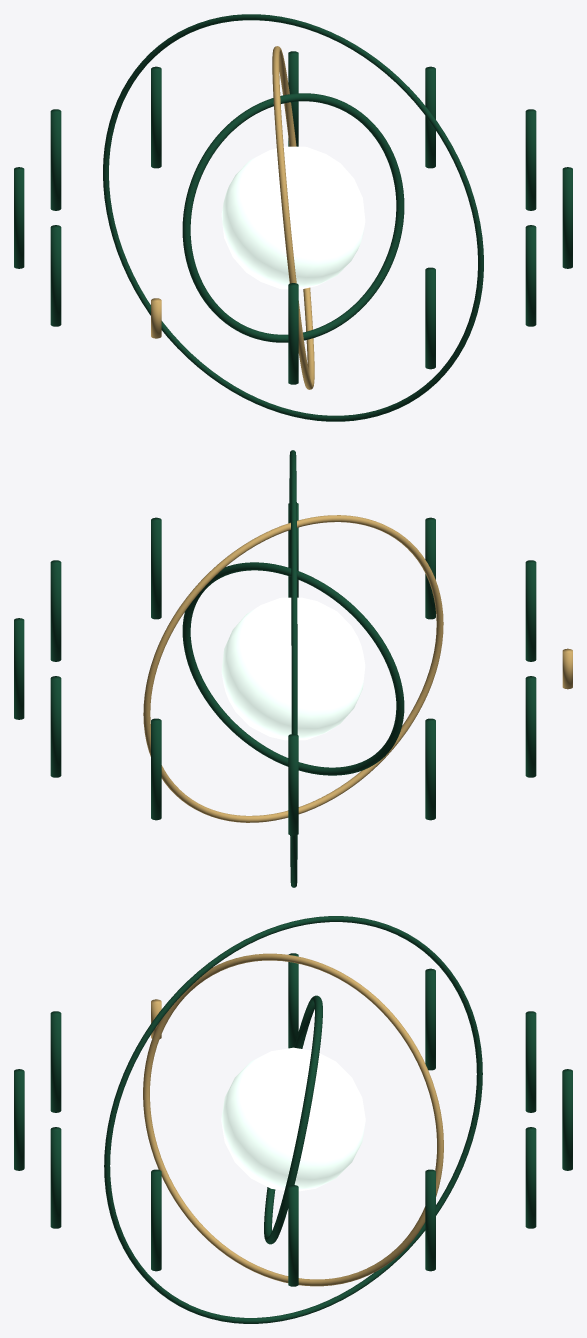
File: hero.glb
3 renders of one model, top to bottom at view 1: azimuth 30°, elevation 25°; view 2: azimuth 150°, elevation 25°; view 3: azimuth 270°, elevation 25°, orthographic.
Visible parts, largest first — view 1: core, tier2, tier0, tier1, pillar0, pillar4, pillar6, pillar10, pillar8, pillar3, pillar9, pillar5 (+3 smaller); view 2: core, tier1, tier0, tier2, pillar0, pillar2, pillar6, pillar8, pillar4, pillar3, pillar5, pillar11 (+2 smaller); view 3: core, tier2, tier1, tier0, pillar2, pillar4, pillar8, pillar10, pillar0, pillar1, pillar11, pillar3 (+3 smaller).
Part boxes in pixels (x1,y1,x2,y2): core: (221,146,365,289); tier2: (103,14,483,421); tier0: (182,93,404,342); tier1: (272,46,314,389); pillar0: (525,109,536,210); pillar4: (50,109,61,210); pillar6: (50,225,61,326); pillar10: (525,225,536,326); pillar8: (288,283,298,384); pillar3: (151,66,161,168); pillar9: (425,267,435,369); pillar5: (14,167,24,268); core: (221,597,365,740); tier1: (143,515,443,822); tier0: (182,562,404,775); tier2: (289,450,297,887); pillar0: (50,560,61,661); pillar2: (50,676,61,777); pillar6: (525,676,536,777); pillar8: (525,560,536,661); pillar4: (288,734,298,835); pillar3: (151,718,161,820); pillar5: (425,718,435,820); pillar11: (151,517,161,619); core: (221,1047,365,1191); tier2: (104,916,482,1323); tier1: (143,953,443,1286); tier0: (264,995,322,1244); pillar2: (525,1127,536,1228); pillar4: (525,1011,536,1112); pillar8: (50,1011,61,1112); pillar10: (50,1127,61,1228); pillar0: (288,1185,298,1286); pillar1: (425,1169,435,1271); pillar11: (151,1169,161,1271); pillar3: (562,1069,572,1170).
Bounding box in the file's own units: 4.79 × 3.75 × 4.79.
